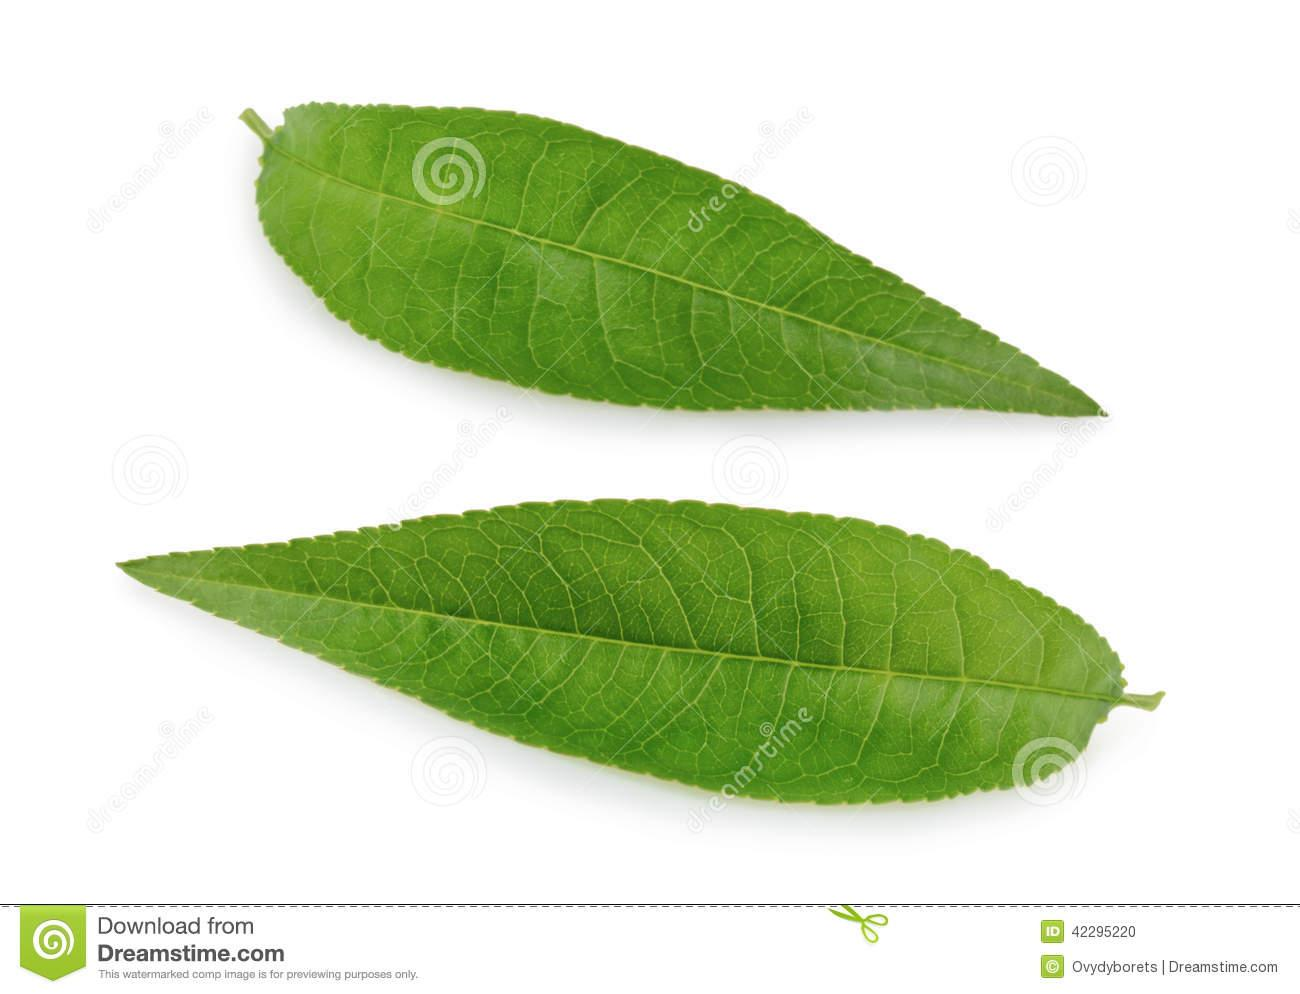Peach leaf: (72, 478, 1165, 815), (224, 58, 1119, 433)
